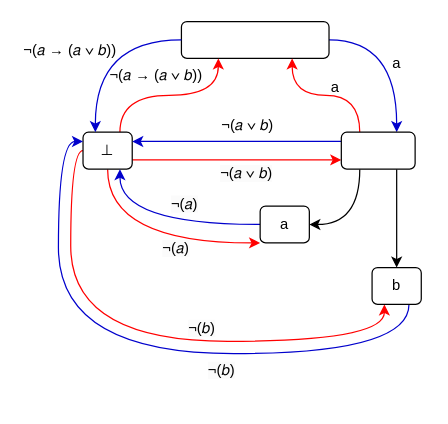
The diagram is 448 pixels wide and 424 high, and some of its shapes have lost their labels. Here are the shapes that lost their labels. From the top down, the centre of each, then its label:
the point at 254,39: 𝑎 → (𝑎 ∨ 𝑏)
the point at 377,150: 𝑎 ∨ 𝑏
